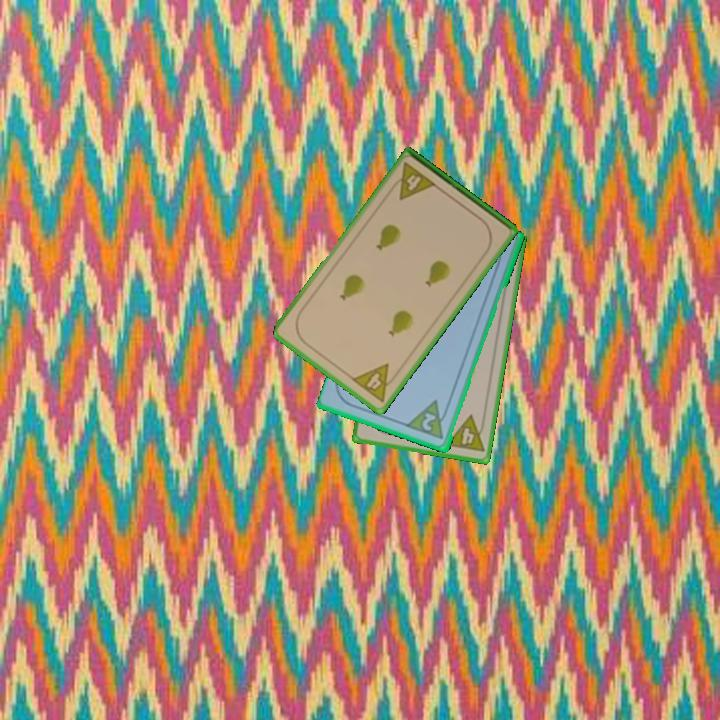2p: (418, 409, 439, 434)
4p: (348, 360, 402, 405), (386, 159, 439, 203), (442, 412, 489, 455)
